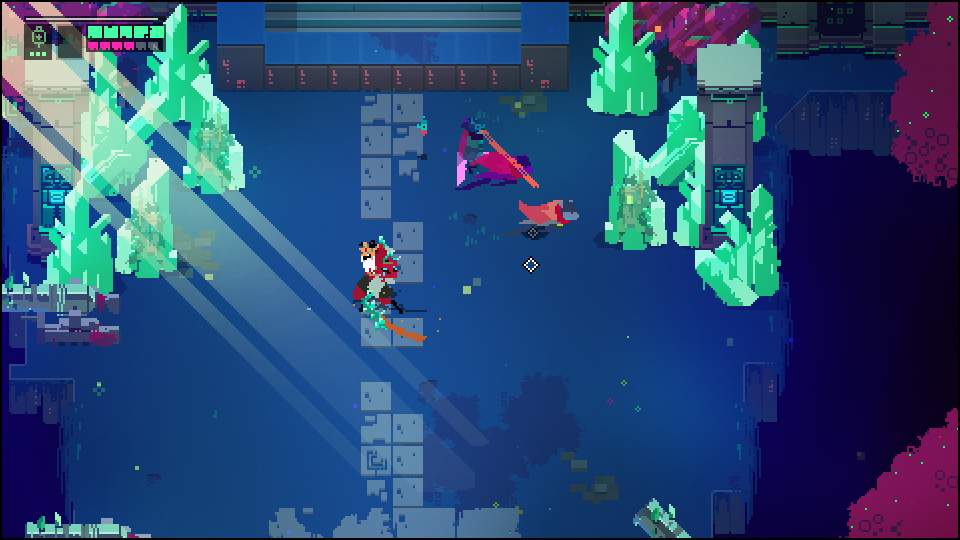hanged_man: (348, 228, 417, 342)
player: (514, 192, 580, 233)
